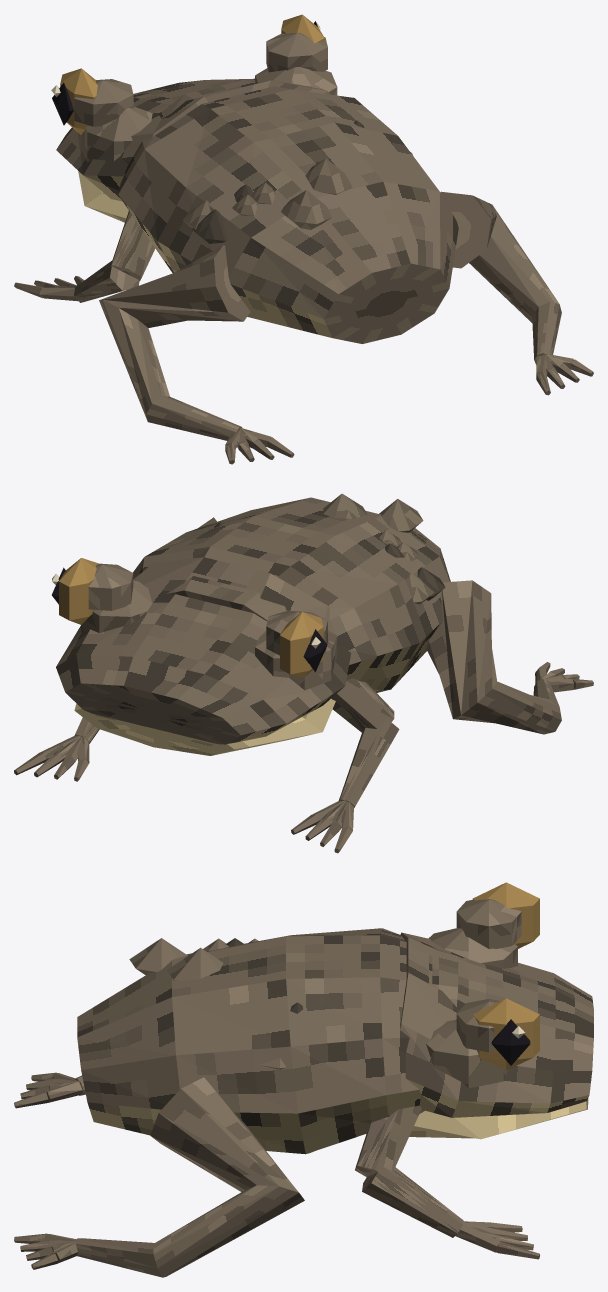
The model's file is mon_odd_toad.glb.
3 views of the same model, one above another, from view 1: azimuth 30°, elevation 25°; view 2: azimuth 150°, elevation 25°; view 3: azimuth 270°, elevation 25° (orthographic). The views are drawn at different scales.
Visible parts, largest first — view 1: closed_body; view 2: closed_body; view 3: closed_body.
Boxes of the visible parts, x1,y1,x2,y2 form: closed_body: (14, 14, 593, 464); closed_body: (14, 493, 593, 853); closed_body: (14, 882, 593, 1277).
Bounding box in the file's own units: 0.4046 × 0.2034 × 0.4543.
1 material, 1 textured.
